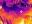Hotspot: (24, 17, 31, 23), (17, 20, 26, 24), (28, 8, 31, 17), (0, 16, 3, 23), (29, 0, 31, 4)
